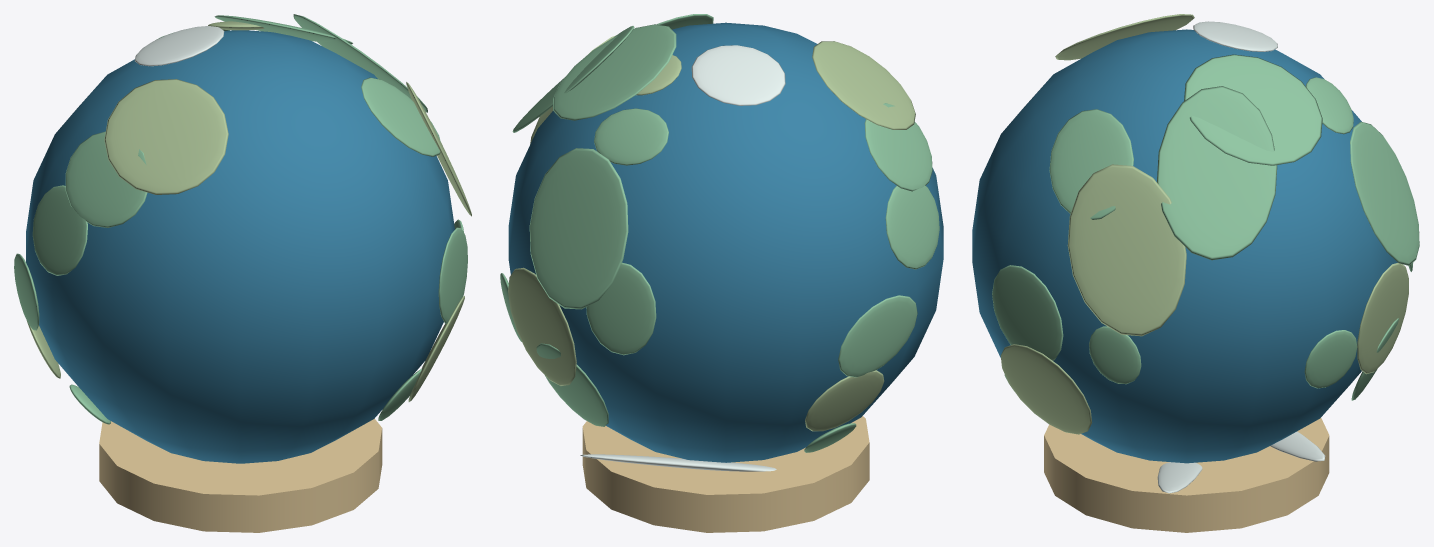
The model's file is earth-ar.gltf.
3 renders of one model, left to right at view 1: azimuth 30°, elevation 25°; view 2: azimuth 150°, elevation 25°; view 3: azimuth 270°, elevation 25°, orthographic.
Visible parts, largest first — view 1: OceanShell, Pedestal, LandPatch_0, LandPatch_1, LandPatch_2, LandPatch_13, LandPatch_18, LandPatch_14, LandPatch_11, LandPatch_3, LandPatch_10, LandPatch_12 (+3 smaller); view 2: OceanShell, Pedestal, LandPatch_7, LandPatch_10, LandPatch_0, LandPatch_8, LandPatch_18, LandPatch_21, LandPatch_3, LandPatch_2, LandPatch_1, LandPatch_6 (+7 smaller); view 3: OceanShell, Pedestal, LandPatch_12, LandPatch_11, LandPatch_10, LandPatch_7, LandPatch_13, LandPatch_16, LandPatch_14, LandPatch_8, LandPatch_15, LandPatch_19 (+5 smaller).
Part boxes in pixels (x1,y1,x2,y2): OceanShell: (26, 30, 454, 463); Pedestal: (99, 418, 382, 532); LandPatch_0: (104, 79, 228, 194); LandPatch_1: (65, 131, 147, 227); LandPatch_2: (32, 185, 87, 275); LandPatch_13: (361, 77, 440, 156); LandPatch_18: (135, 26, 224, 66); LandPatch_14: (438, 227, 467, 323); LandPatch_11: (293, 14, 427, 112); LandPatch_3: (14, 253, 39, 330); LandPatch_10: (214, 15, 352, 44); LandPatch_12: (406, 82, 471, 216); OceanShell: (508, 22, 943, 462); Pedestal: (582, 416, 869, 532); LandPatch_7: (529, 148, 628, 309); LandPatch_10: (553, 24, 676, 120); LandPatch_0: (812, 41, 915, 129); LandPatch_8: (508, 267, 576, 385); LandPatch_18: (691, 45, 785, 105); LandPatch_21: (586, 262, 656, 355); LandPatch_3: (838, 295, 917, 377); LandPatch_2: (885, 185, 939, 269); LandPatch_1: (864, 103, 932, 191); LandPatch_6: (594, 108, 668, 165); OceanShell: (972, 29, 1397, 463); Pedestal: (1044, 418, 1329, 532); LandPatch_12: (1067, 164, 1186, 336); LandPatch_11: (1157, 86, 1277, 260); LandPatch_10: (1184, 54, 1322, 165); LandPatch_7: (1350, 121, 1419, 265); LandPatch_13: (1049, 109, 1133, 219); LandPatch_16: (1000, 344, 1092, 434); LandPatch_14: (992, 265, 1063, 360); LandPatch_8: (1357, 263, 1408, 374); LandPatch_15: (1089, 326, 1141, 384); LandPatch_19: (1304, 330, 1357, 388).
Size of the model in its own units: 1.23 by 1.27 by 1.19.
